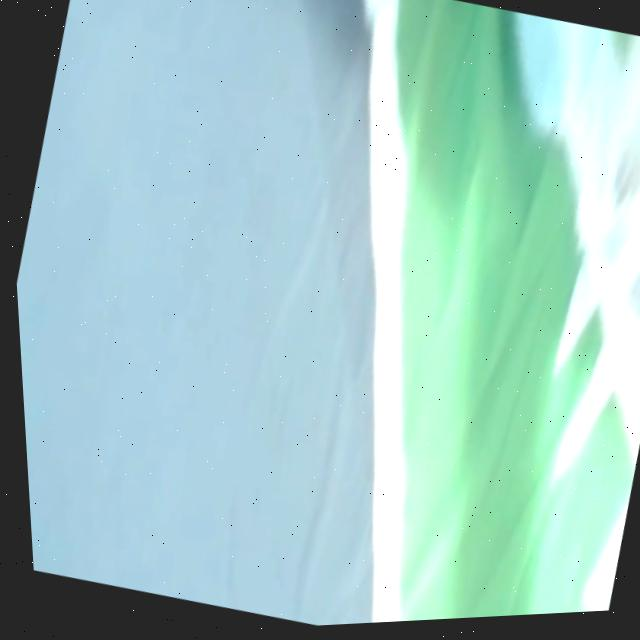right: (366, 0, 405, 623)
